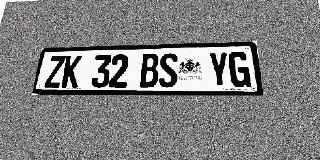2: (109, 54, 129, 88)
3: (91, 55, 112, 88)
B: (140, 53, 159, 88)
G: (228, 51, 251, 87)
K: (61, 55, 82, 88)
S: (159, 53, 178, 88)
Y: (208, 52, 230, 87)
Z: (44, 56, 66, 88)
